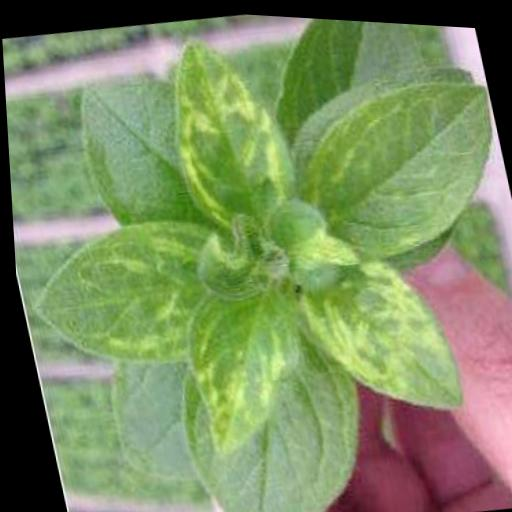Mosaic Virus: (15, 190, 277, 379), (283, 62, 511, 272), (150, 19, 301, 239), (168, 256, 329, 460)
